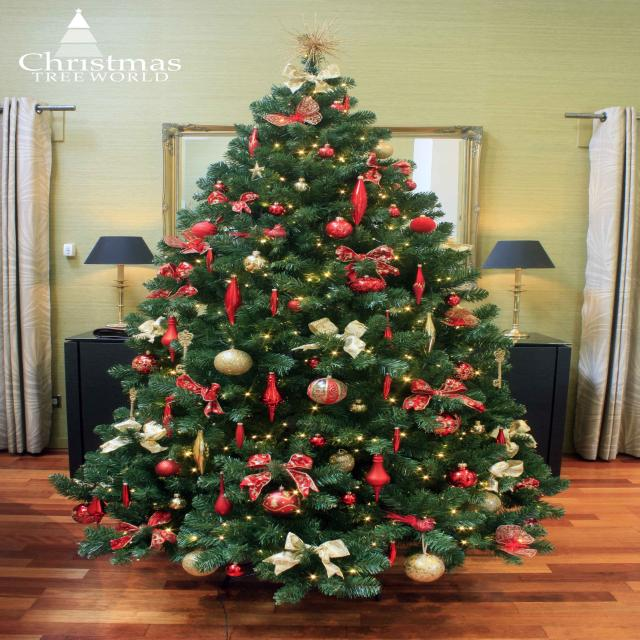Christmas-tree: (162, 80, 506, 578)
